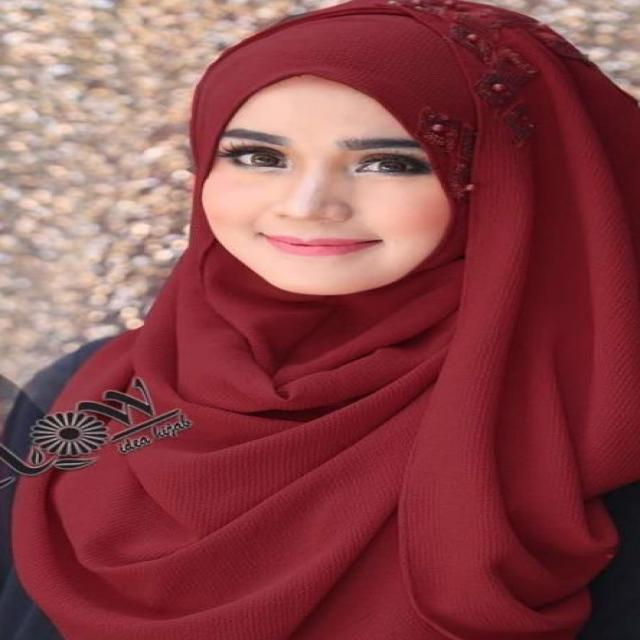head: (158, 3, 634, 302)
